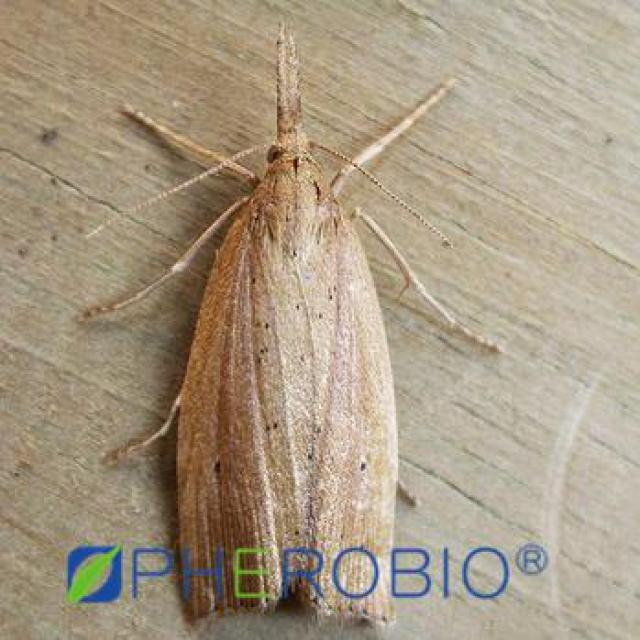yellow-stem-borer: (86, 29, 546, 636)
